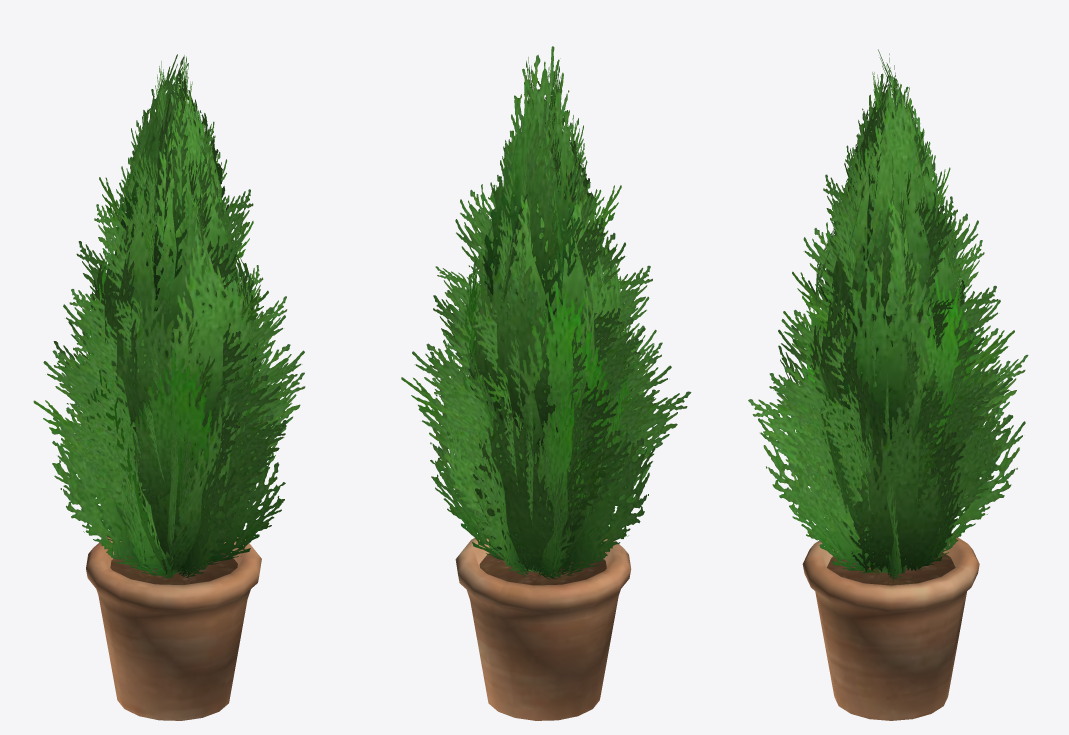
The picture shows the model from 3 angles, left to right: view 1: azimuth 30°, elevation 25°; view 2: azimuth 150°, elevation 25°; view 3: azimuth 270°, elevation 25°; orthographic projection.
Bounding box in the file's own units: 9.19 × 21.47 × 9.27.
Materials: 1 (1 with a texture image).
